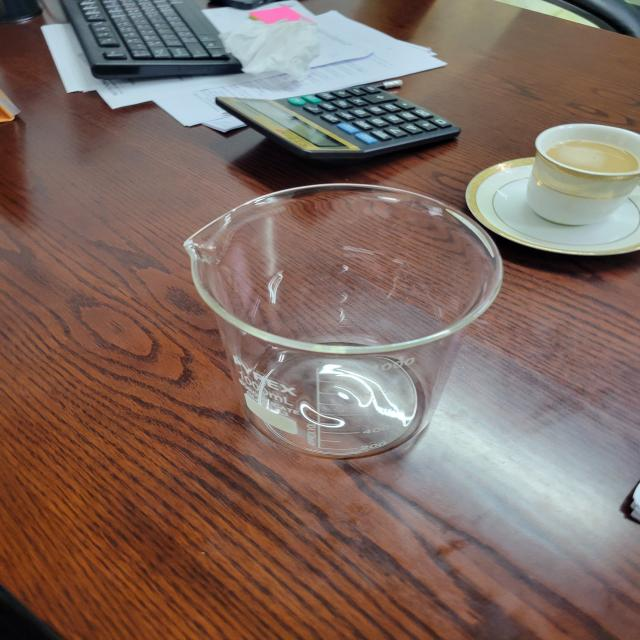Beaker: (155, 162, 528, 488)
